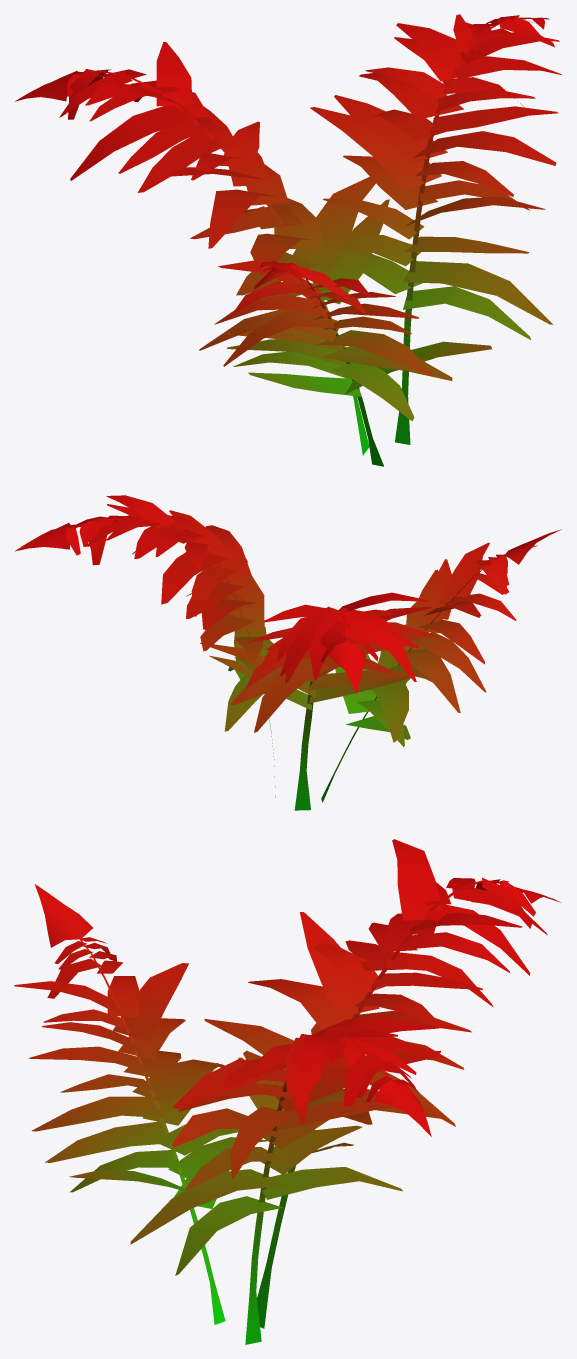
Rendered from Var5_LOD3.fbx.
The picture shows the model from 3 angles, top to bottom: view 1: azimuth 30°, elevation 25°; view 2: azimuth 150°, elevation 25°; view 3: azimuth 270°, elevation 25°; orthographic projection. The views are drawn at different scales.
Visible parts, largest first — view 1: _hjuc_Var5_LOD3; view 2: _hjuc_Var5_LOD3; view 3: _hjuc_Var5_LOD3.
Part boxes in pixels (bbox=[...]): _hjuc_Var5_LOD3: bbox=[15, 14, 562, 466]; _hjuc_Var5_LOD3: bbox=[14, 495, 561, 810]; _hjuc_Var5_LOD3: bbox=[14, 839, 560, 1344].
Size of the model in its own units: 25.92 by 18.26 by 23.96.
